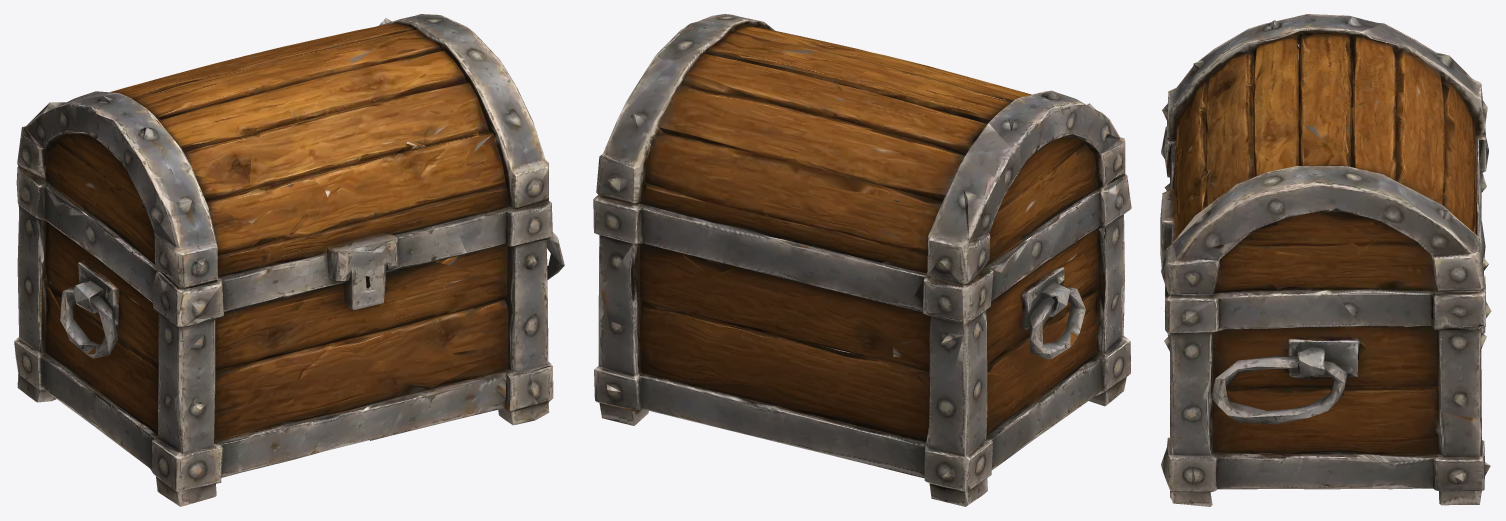
File: chest_wood.1ace644f.glb
3 renders of one model, left to right at view 1: azimuth 30°, elevation 25°; view 2: azimuth 150°, elevation 25°; view 3: azimuth 270°, elevation 25°, orthographic. The views are drawn at different scales.
Visible parts, largest first — view 1: tripo_node_b2f1c134-e2eb-481b-9caa-06371f94a668; view 2: tripo_node_b2f1c134-e2eb-481b-9caa-06371f94a668; view 3: tripo_node_b2f1c134-e2eb-481b-9caa-06371f94a668.
Part boxes in pixels (x1,y1,x2,y2): tripo_node_b2f1c134-e2eb-481b-9caa-06371f94a668: (14,14,564,506); tripo_node_b2f1c134-e2eb-481b-9caa-06371f94a668: (593,14,1131,506); tripo_node_b2f1c134-e2eb-481b-9caa-06371f94a668: (1160,14,1491,506).
Bounding box in the file's own units: 1.05 × 0.7862 × 0.7246.
1 material, 1 textured.
